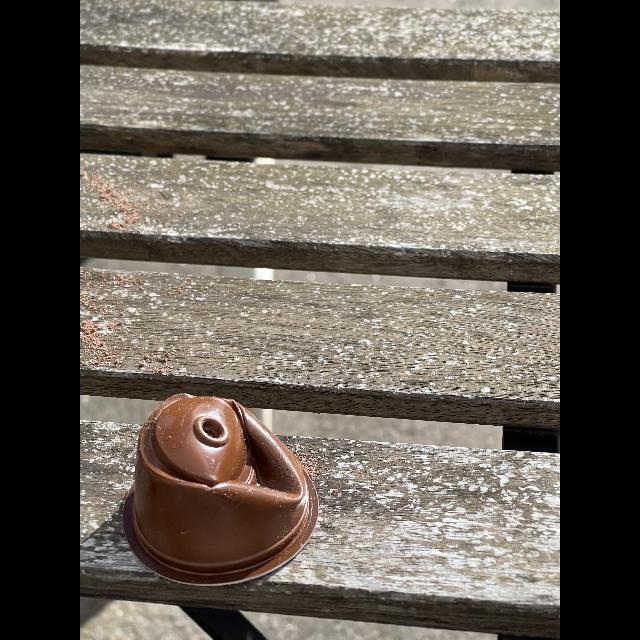damaged_capsule: (117, 372, 325, 608)
